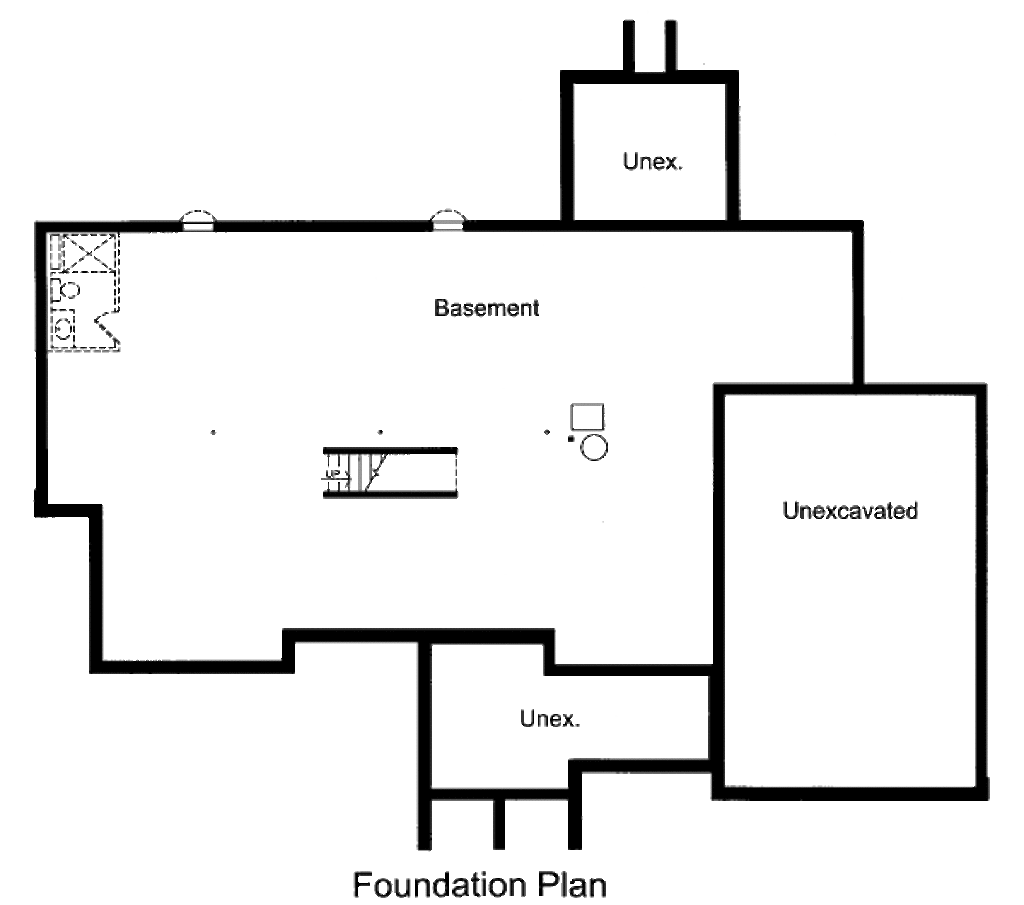door: (91, 304, 128, 350)
large_sink: (52, 271, 85, 308)
small_sink: (39, 315, 83, 355)
stairs: (319, 439, 459, 501)
